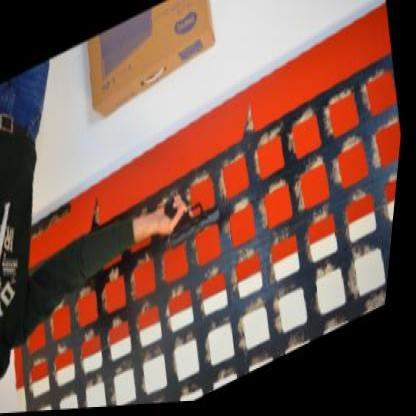pistol: (163, 176, 229, 254)
